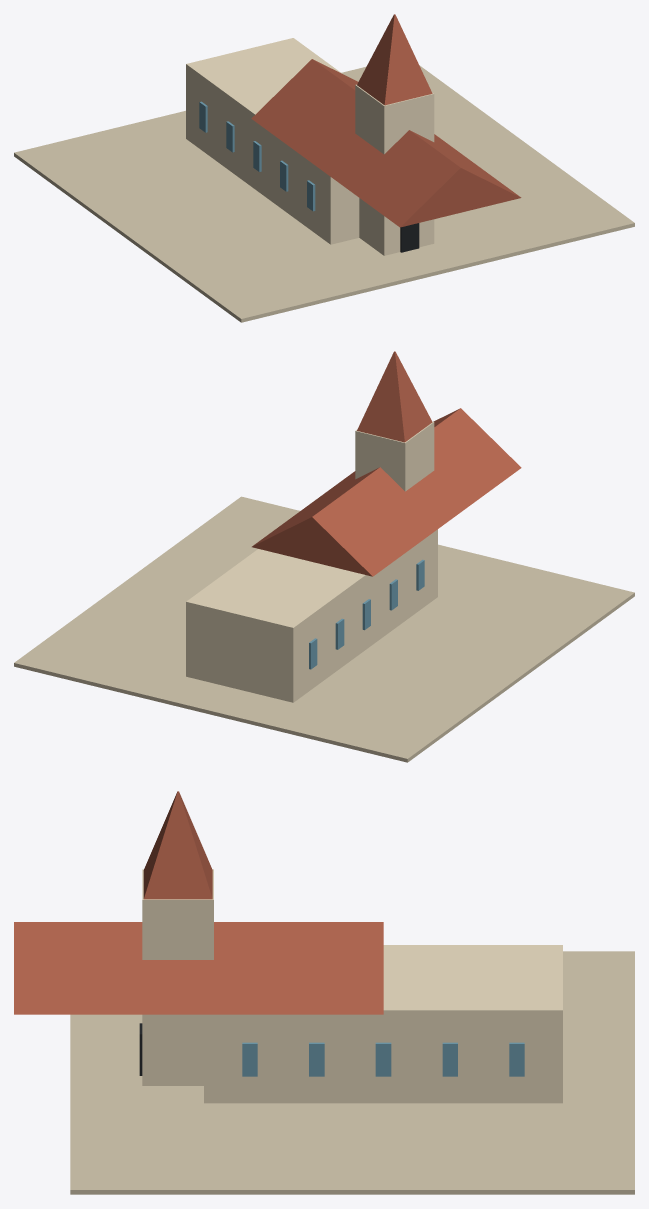
The model's file is church.glb.
3 renders of one model, top to bottom at view 1: azimuth 30°, elevation 25°; view 2: azimuth 150°, elevation 25°; view 3: azimuth 270°, elevation 25°, orthographic. The views are drawn at different scales.
Parts seen in each view (by area): view 1: church_plaza, church_roof_tile, church_cream, church_glass, church_black; view 2: church_plaza, church_cream, church_roof_tile, church_glass; view 3: church_plaza, church_cream, church_roof_tile, church_glass.
Part boxes in pixels (x1,y1,x2,y2): church_plaza: (14, 65, 634, 322); church_roof_tile: (251, 14, 521, 227); church_cream: (186, 38, 437, 255); church_glass: (199, 101, 315, 211); church_black: (400, 223, 419, 252); church_plaza: (14, 496, 634, 762); church_cream: (186, 421, 437, 702); church_roof_tile: (252, 351, 521, 576); church_glass: (309, 559, 424, 669); church_plaza: (70, 951, 634, 1194); church_cream: (142, 869, 562, 1103); church_roof_tile: (14, 791, 383, 1014); church_glass: (242, 1042, 524, 1076).
Size of the model in its own units: 110 by 61 by 121.
